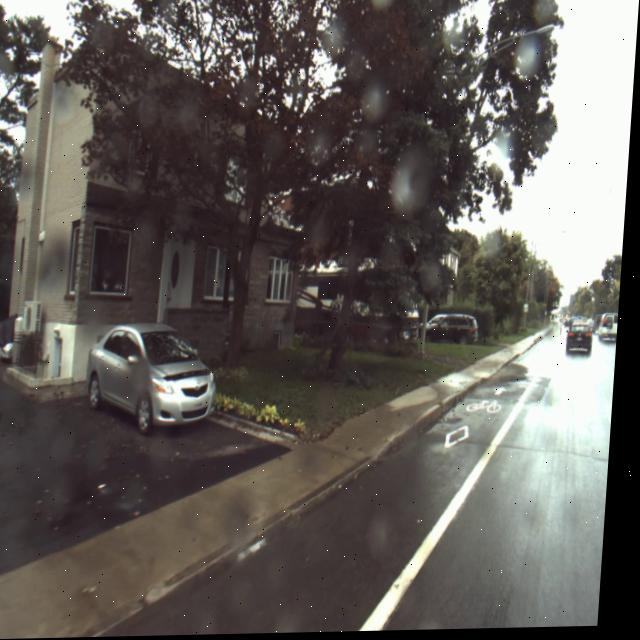car: (87, 321, 225, 434), (431, 316, 485, 349), (570, 323, 599, 362), (602, 316, 623, 347), (0, 313, 1, 414)
